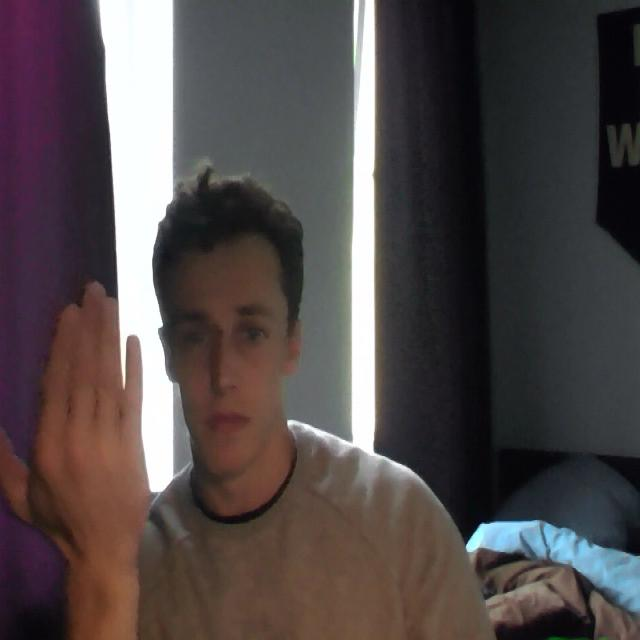forward: (0, 254, 157, 565)
